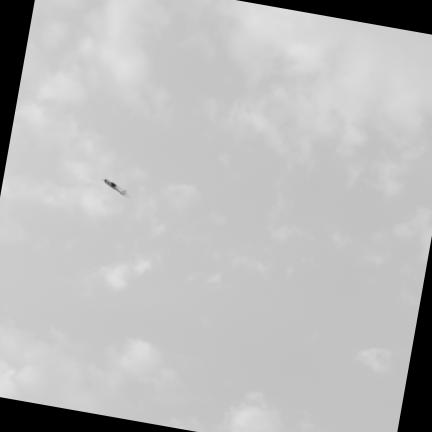Shahed: (104, 179, 129, 197)
